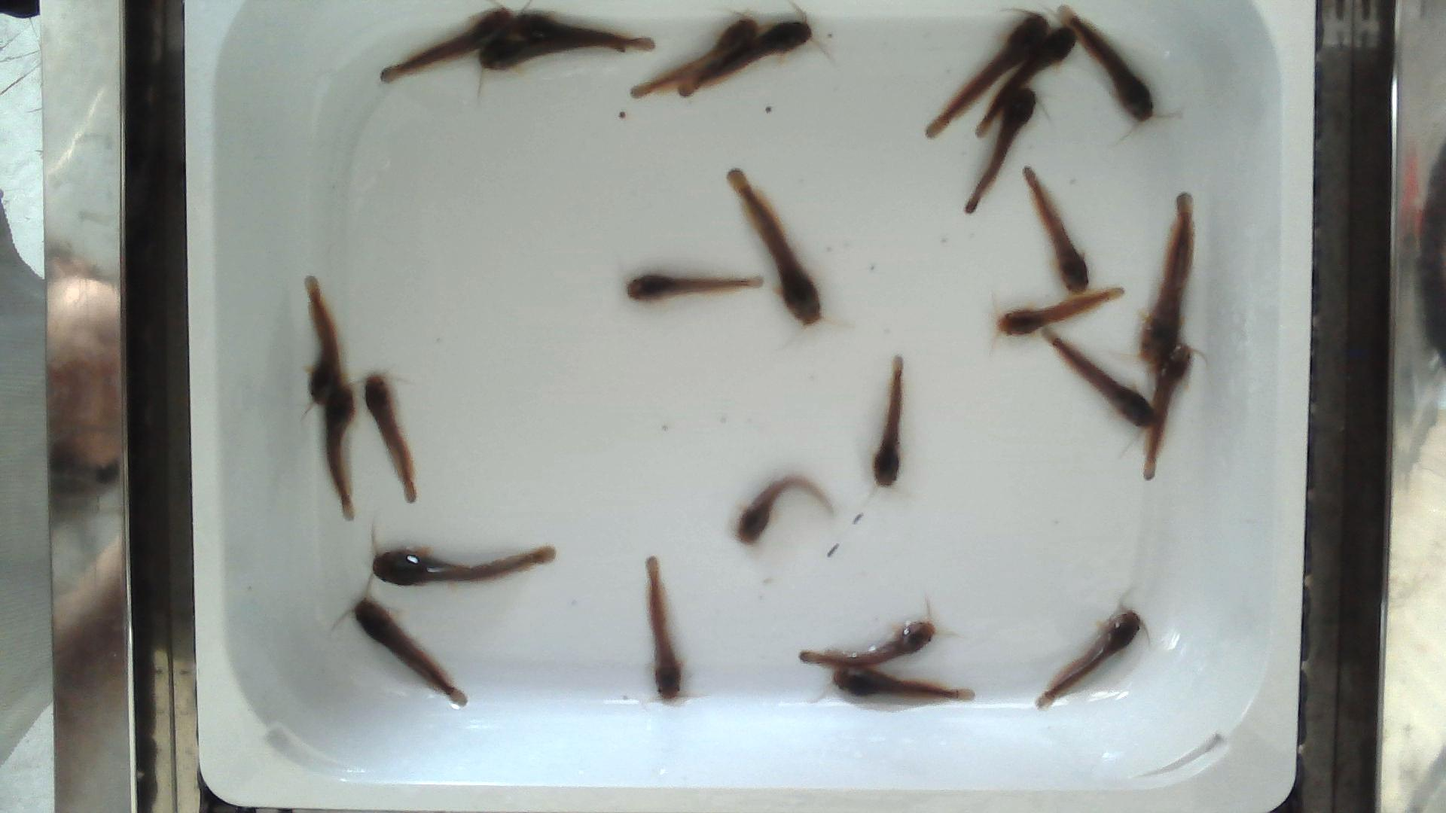lele: (927, 13, 1051, 136), (728, 169, 821, 324), (355, 597, 465, 705), (977, 26, 1079, 135), (1044, 330, 1153, 428), (677, 20, 812, 97), (1062, 7, 1153, 121), (1036, 609, 1142, 706), (380, 7, 512, 83), (631, 18, 757, 97), (1141, 192, 1195, 365), (965, 87, 1036, 213), (1025, 168, 1088, 291), (374, 546, 556, 586), (1142, 339, 1189, 482), (736, 475, 833, 543), (365, 374, 416, 501), (798, 622, 936, 667), (510, 11, 657, 52), (998, 288, 1123, 334), (831, 663, 974, 701), (647, 556, 681, 699), (306, 277, 342, 406), (480, 38, 624, 70), (322, 383, 354, 522), (872, 357, 902, 486), (627, 273, 762, 300)
